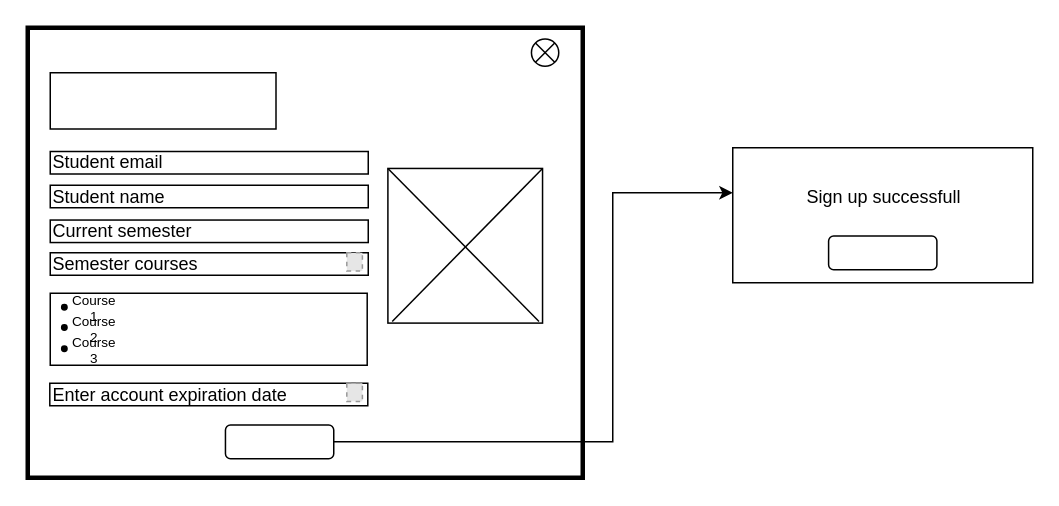
Some shapes in this 1059 by 506 pixel diagram are drawn without their labels. Grey dashed boxes stand in for pictures. Each missing label, with the box of its shape:
Assign Student: (49, 71, 276, 129)
Ok: (827, 234, 937, 270)
Sign Up: (224, 423, 334, 459)
